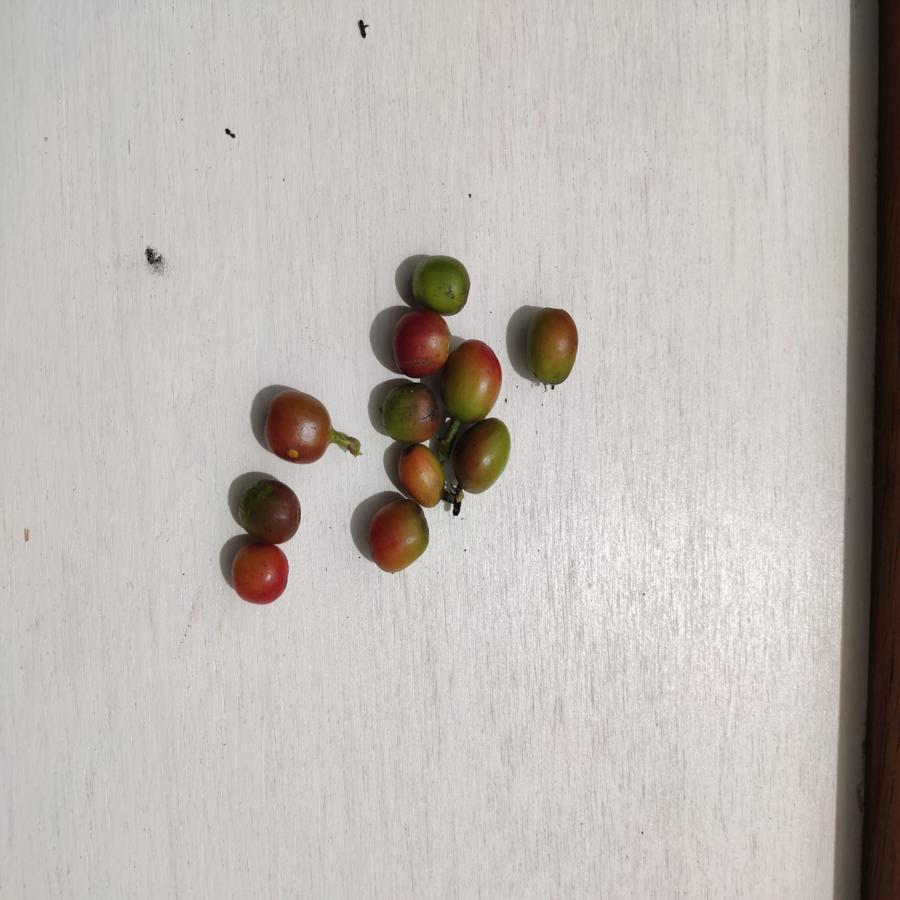Inmaduro: (410, 251, 472, 315)
Maduro: (391, 312, 450, 377)
Pinton: (263, 387, 336, 468), (525, 296, 578, 389), (368, 499, 432, 574), (449, 337, 505, 420), (458, 417, 512, 497), (380, 382, 443, 443), (400, 441, 453, 503)
Sobremaduro: (240, 479, 306, 542), (226, 544, 292, 606)
